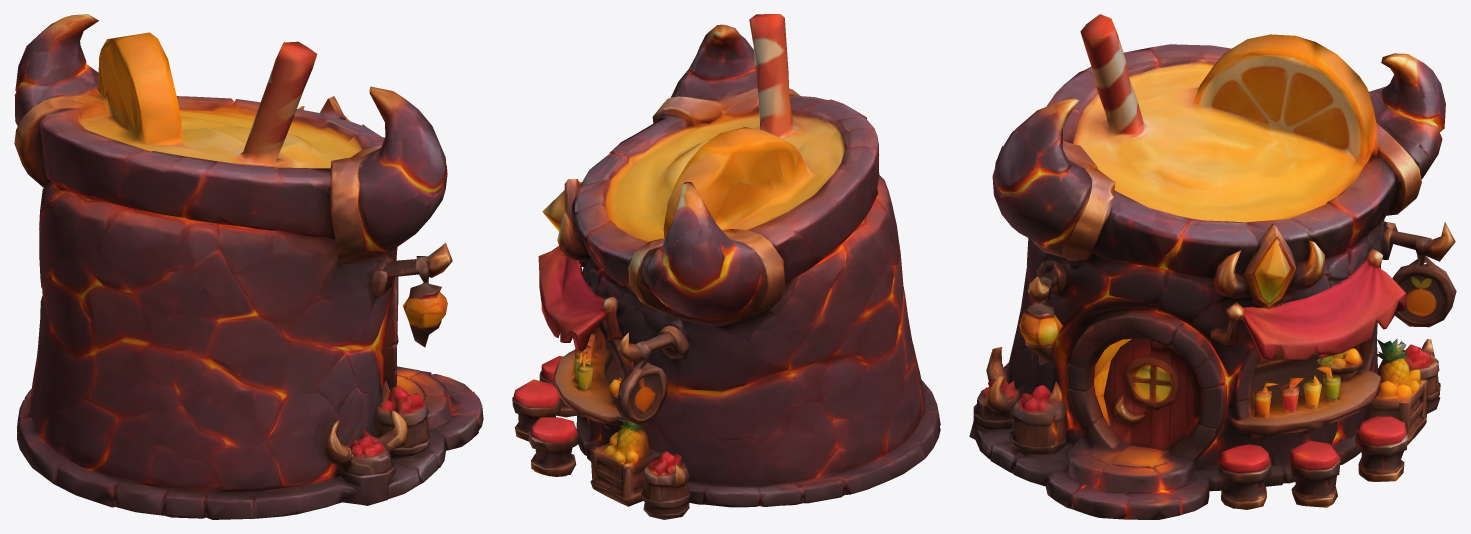
The model's file is Town_Horns_JuiceBar_raw.glb.
The picture shows the model from 3 angles, left to right: view 1: azimuth 30°, elevation 25°; view 2: azimuth 150°, elevation 25°; view 3: azimuth 270°, elevation 25°; orthographic projection. The views are drawn at different scales.
Parts seen in each view (by area): view 1: tripo_node_99ac6215-b5eb-4c60-bed2-68eb01d63493; view 2: tripo_node_99ac6215-b5eb-4c60-bed2-68eb01d63493; view 3: tripo_node_99ac6215-b5eb-4c60-bed2-68eb01d63493.
Part boxes in pixels (left/top/right/bottom): tripo_node_99ac6215-b5eb-4c60-bed2-68eb01d63493: left=14, top=14, right=483, bottom=519; tripo_node_99ac6215-b5eb-4c60-bed2-68eb01d63493: left=512, top=14, right=940, bottom=519; tripo_node_99ac6215-b5eb-4c60-bed2-68eb01d63493: left=969, top=14, right=1456, bottom=519.
Size of the model in its own units: 0.9266 by 0.9307 by 1.
Materials: 1 (1 with a texture image).
